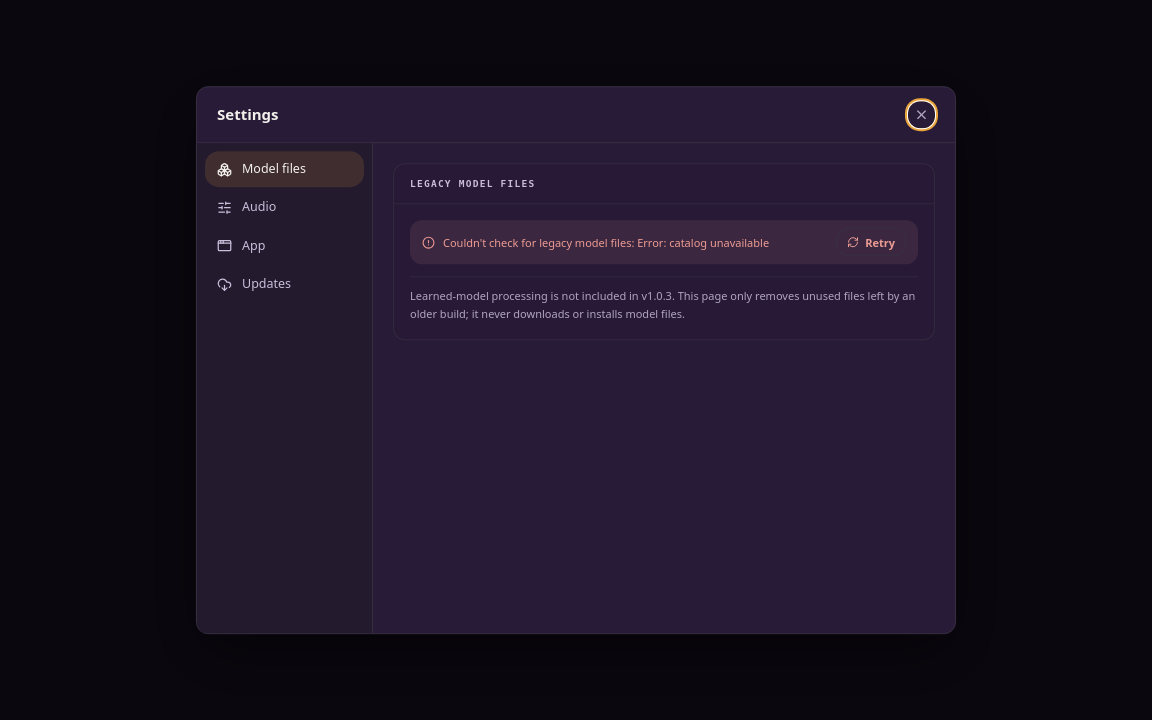
Test: SettingsPanel release boundaries › reports a cleanup catalog failure and supports retry
Expected: the message shows "catalog unavailable", [443,235,769,250]
Click the button "Retry".
click(871, 243)  # box [836,229,906,257]
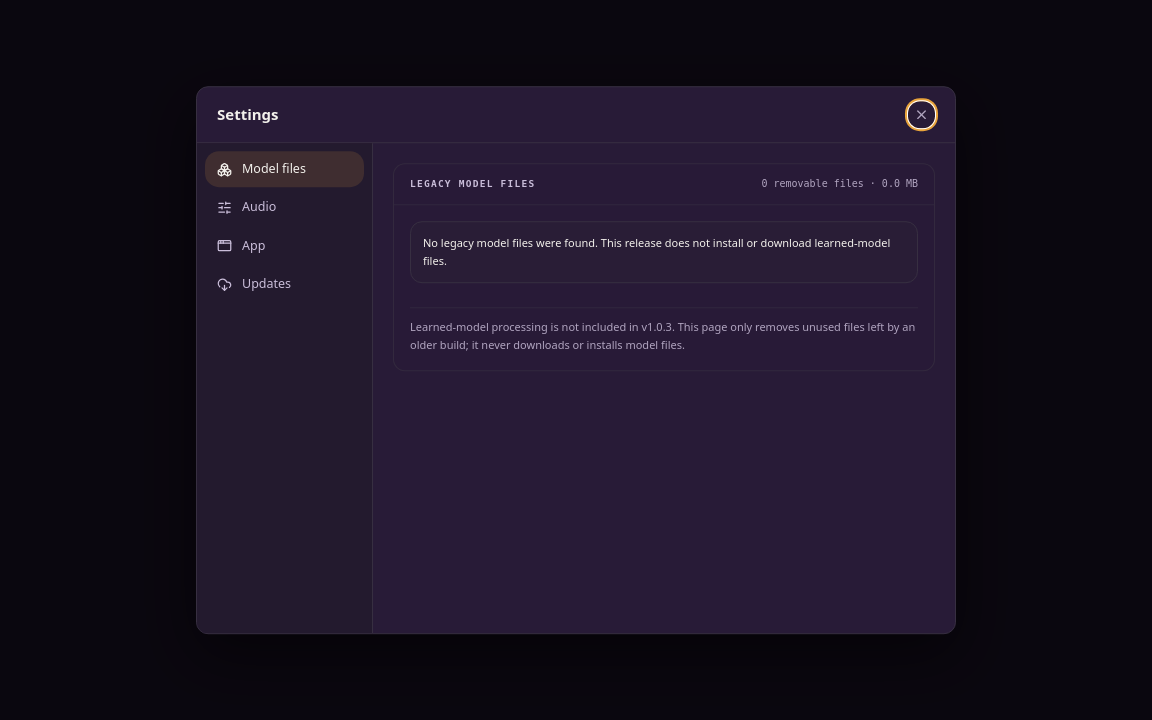
Result: the text "No legacy model files were found" is shown at [423,236,890,268]
